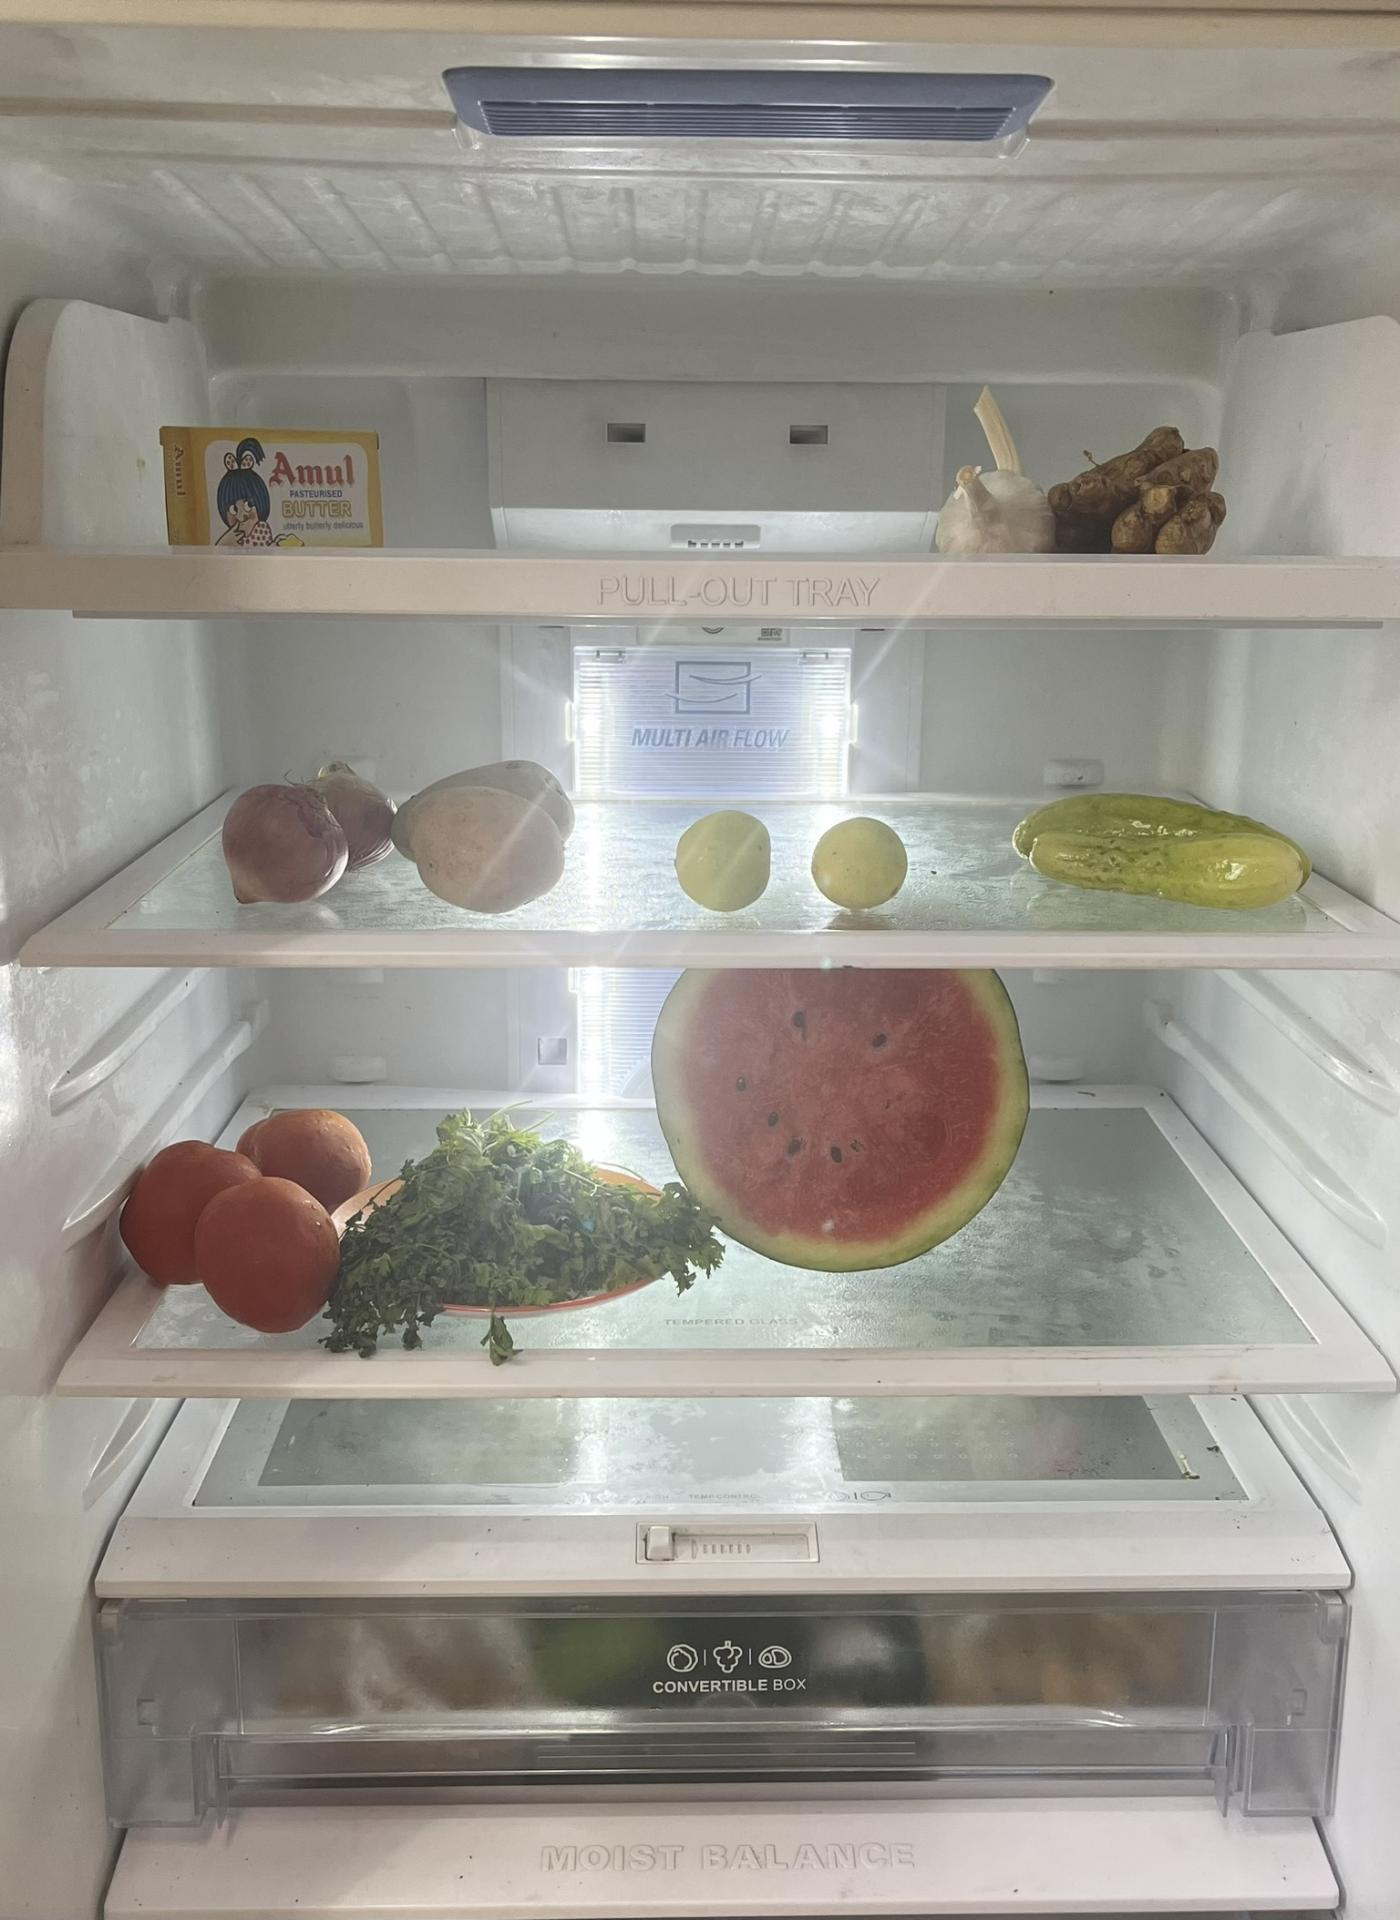butter: (158, 416, 382, 549)
coriander: (344, 1097, 701, 1325)
cucumber: (1006, 792, 1324, 912)
garlic: (935, 389, 1050, 559)
ginger: (1054, 428, 1232, 555)
lemon: (672, 803, 775, 912), (807, 806, 909, 915)
onion: (227, 760, 401, 902)
potato: (406, 753, 578, 914)
tomato: (127, 1100, 368, 1330)
watermelon: (662, 966, 1044, 1286)
